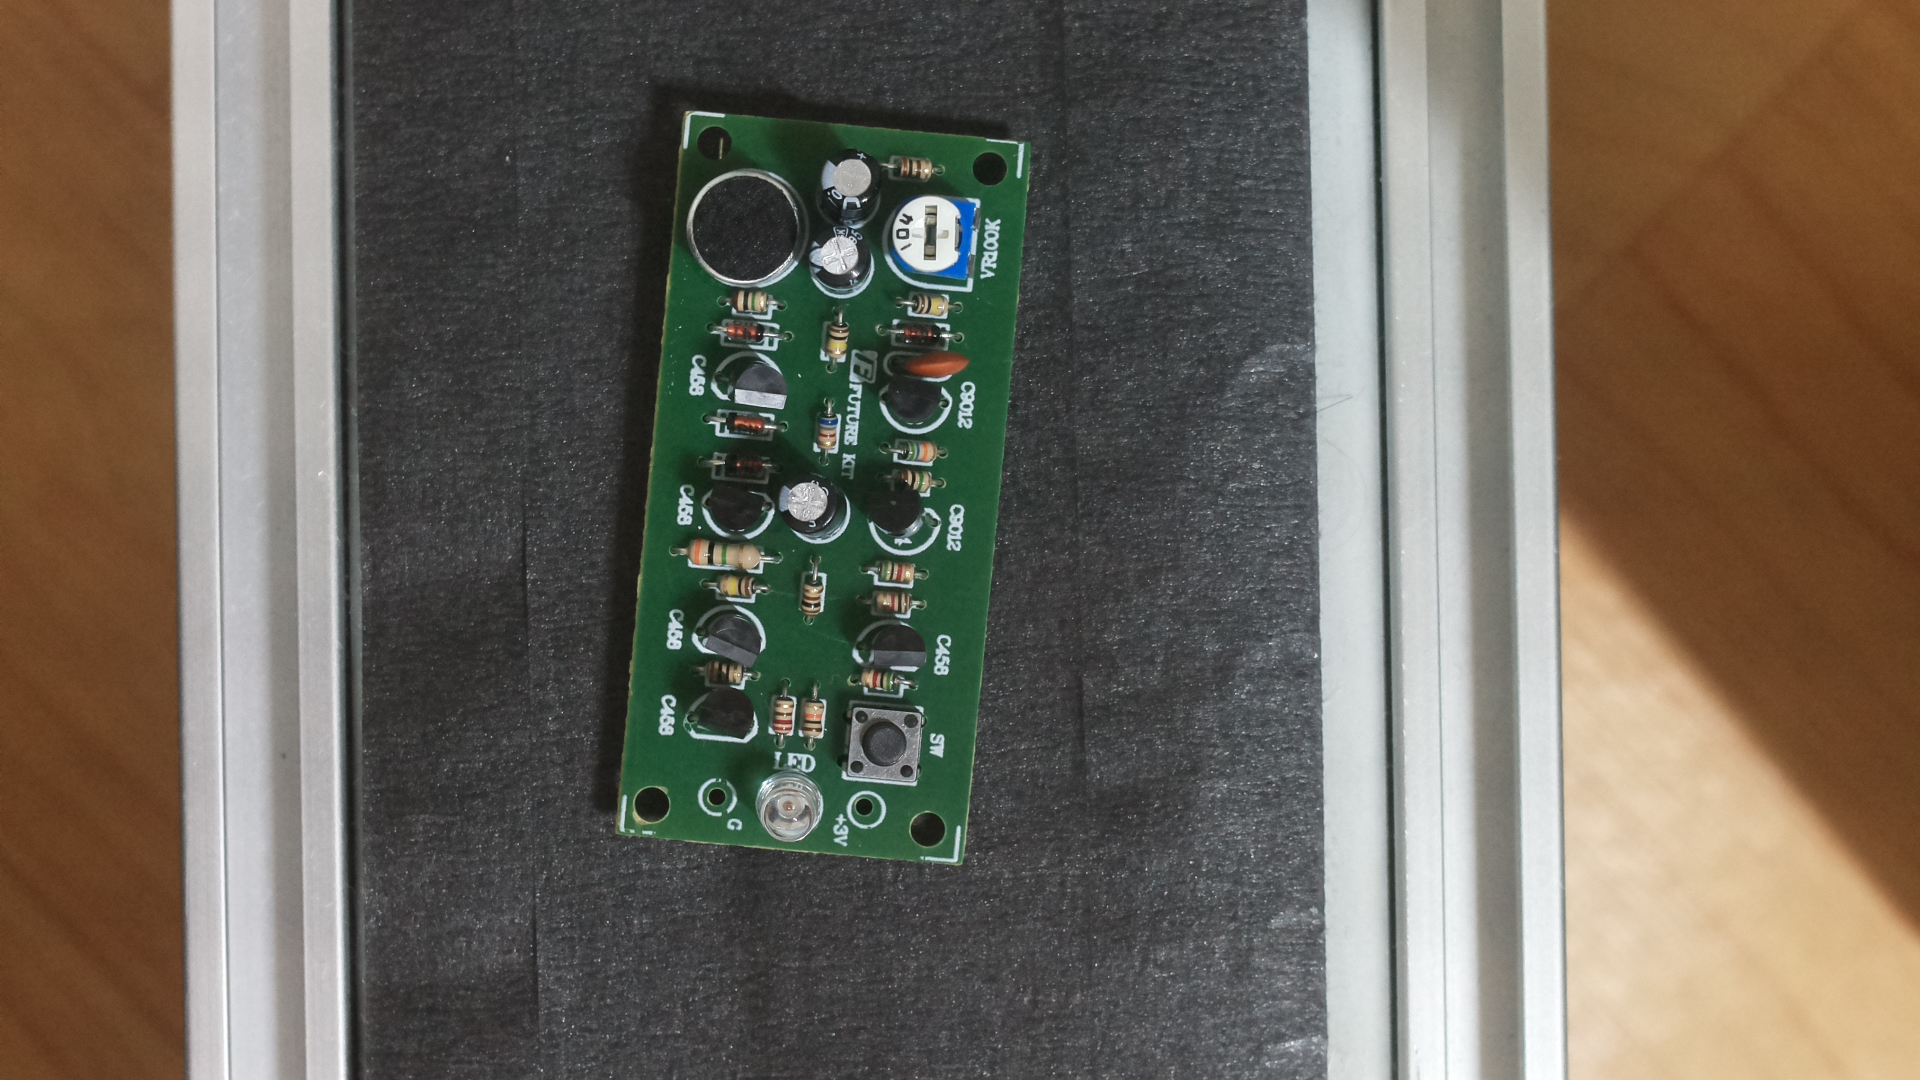A_Normal: (604, 78, 1038, 886)
